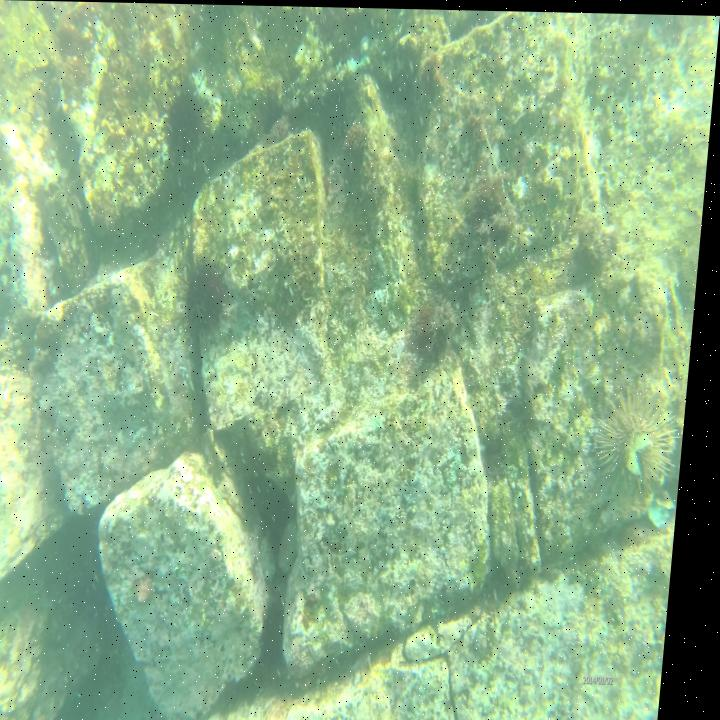echinus: (600, 377, 691, 504), (172, 248, 237, 340), (154, 76, 219, 164)
holothurian: (139, 572, 166, 603)
